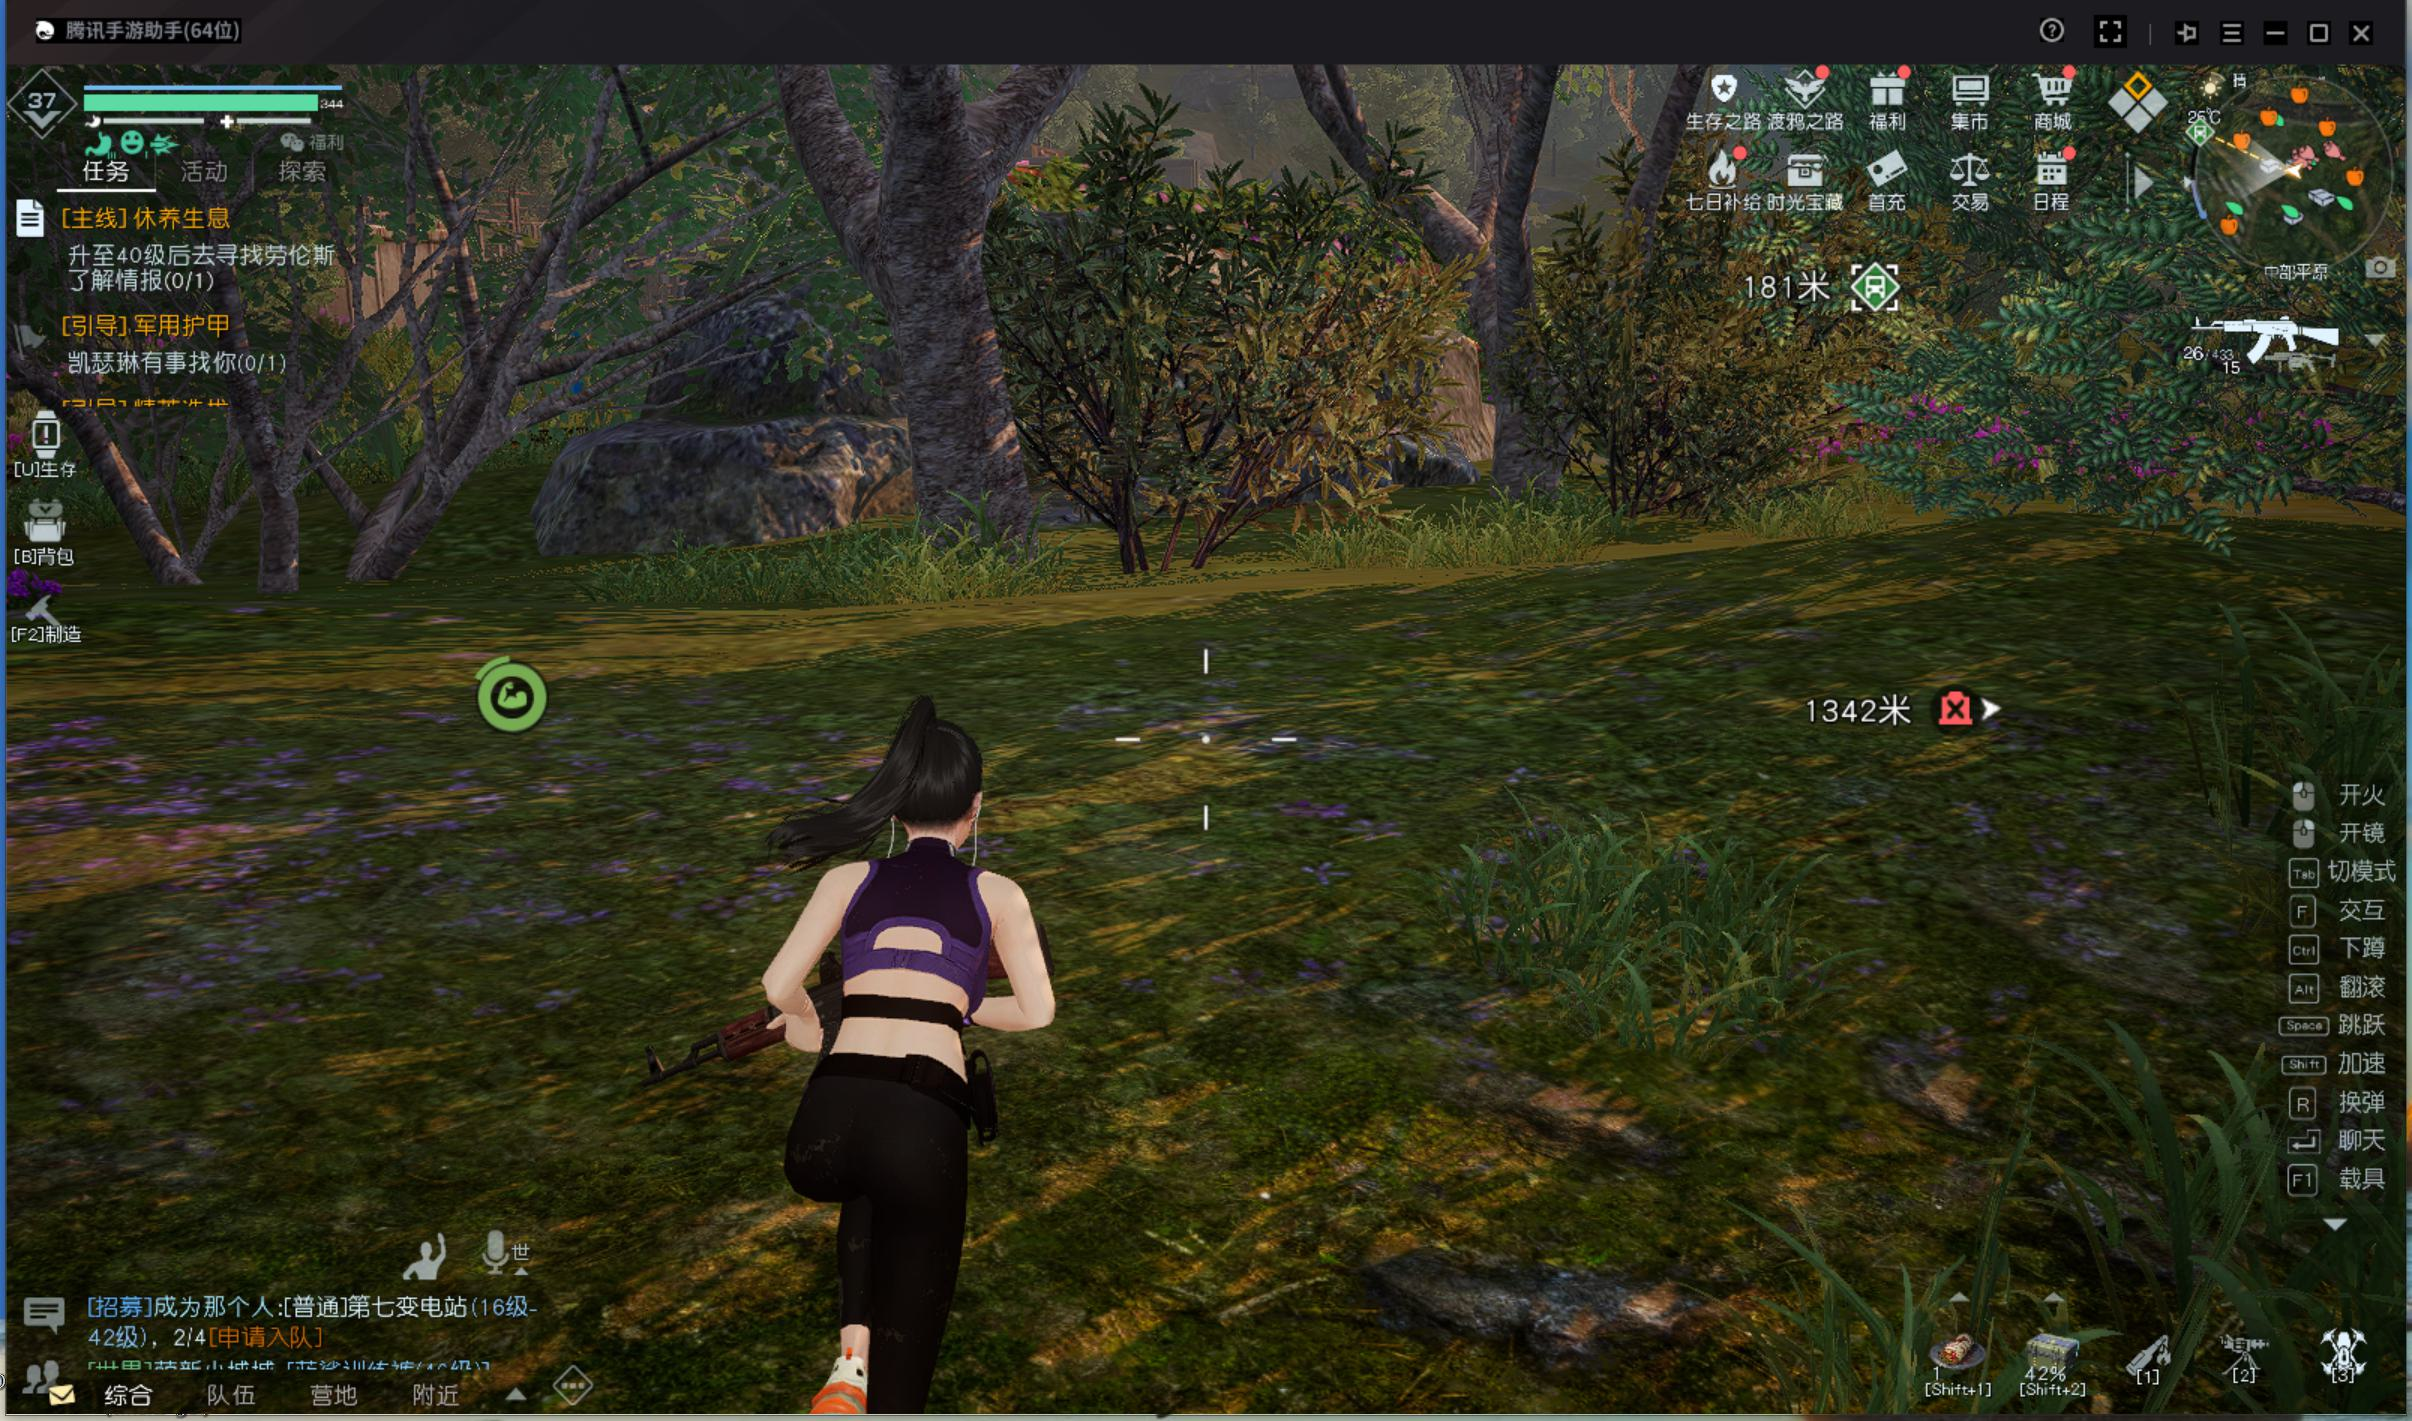tree: (852, 189, 1076, 572)
